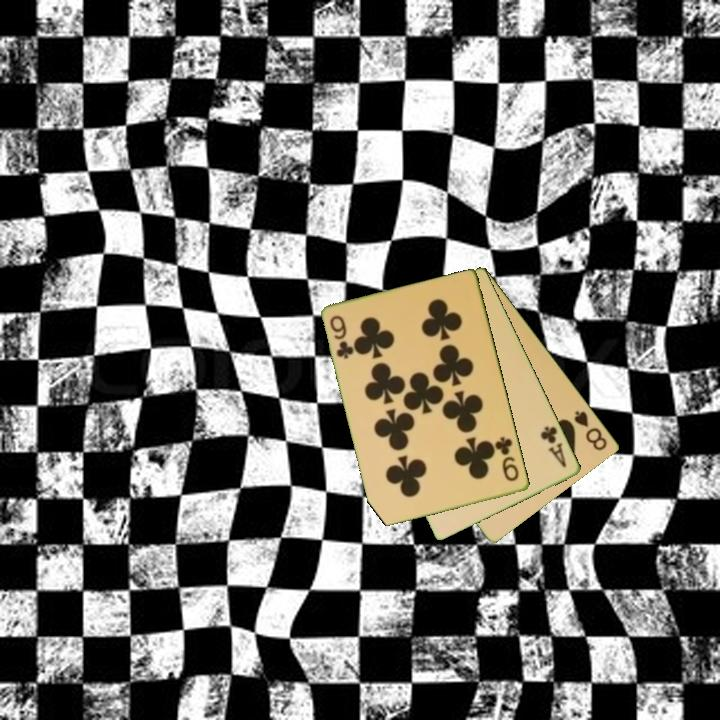8s: (571, 407, 610, 454)
9c: (326, 312, 357, 362), (492, 433, 522, 484)
Ac: (537, 422, 570, 471)
